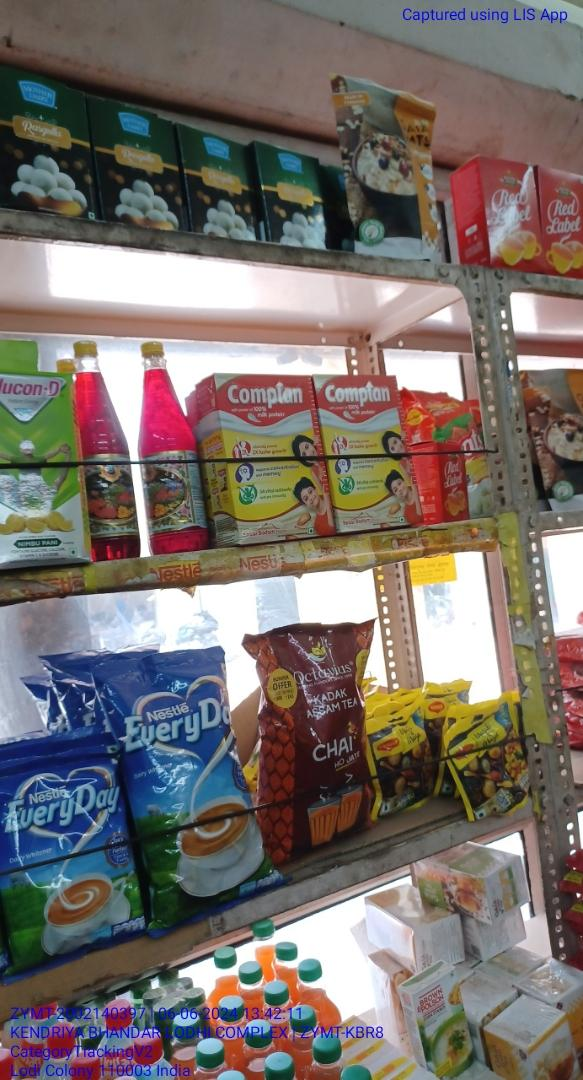COMPLAN_KESAR_BADAM_500_GMS_PACK: (220, 371, 324, 537), (329, 372, 413, 529)
